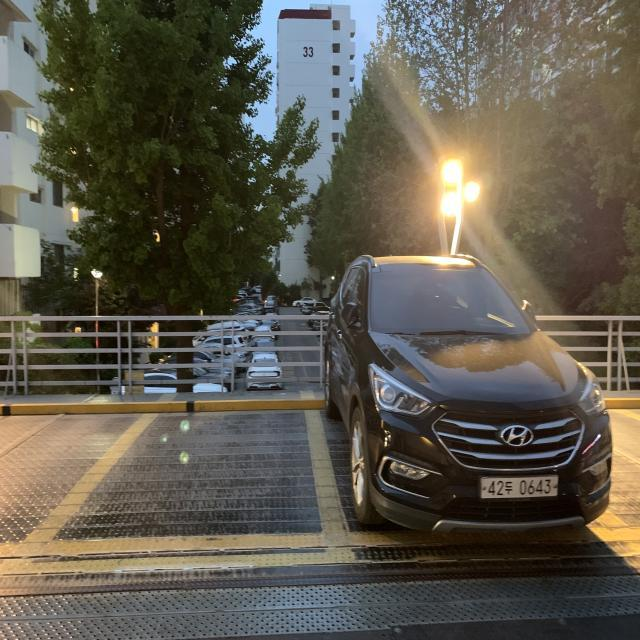empty: (15, 403, 329, 558)
occupied: (320, 238, 620, 552)
